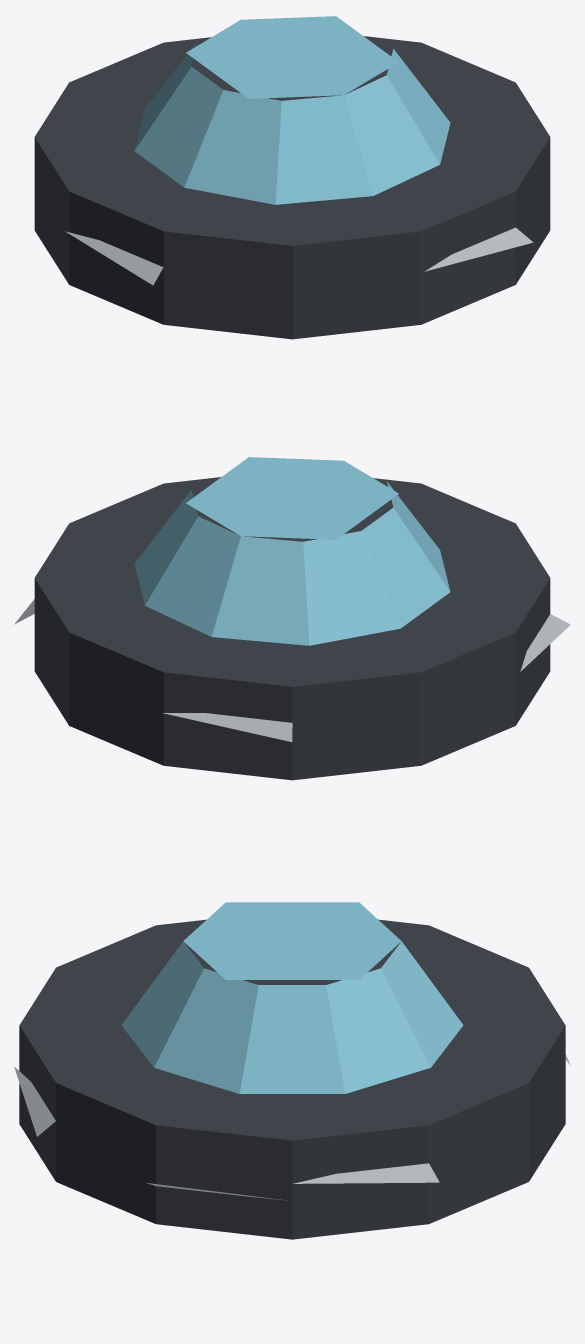
File: mine-cryo.lod.glb
3 renders of one model, top to bottom at view 1: azimuth 30°, elevation 25°; view 2: azimuth 150°, elevation 25°; view 3: azimuth 270°, elevation 25°, orthographic. The views are drawn at different scales.
Visible parts, largest first — view 1: m; view 2: m; view 3: m.
Part boxes in pixels (x1=…): m: x1=34, y1=16, x2=550, y2=339; m: x1=14, y1=457, x2=570, y2=780; m: x1=14, y1=902, x2=570, y2=1239.
Bounding box in the file's own units: 0.0944 × 0.0519 × 0.0944.
